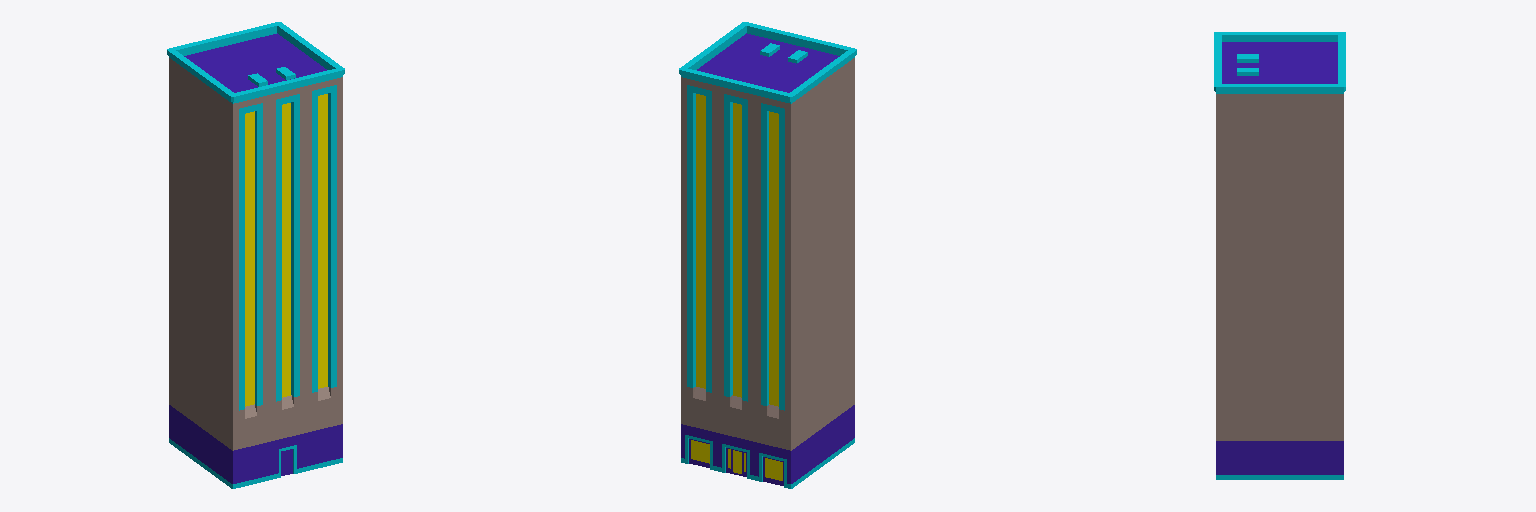
Rendered from skyscraperF_CyPk.obj.
3 views of the same model, side by side, from view 1: azimuth 30°, elevation 25°; view 2: azimuth 150°, elevation 25°; view 3: azimuth 270°, elevation 25° (orthographic).
Visible parts, largest first — view 1: skyscraperF; view 2: skyscraperF; view 3: skyscraperF.
Part boxes in pixels (left/top/right/bottom): skyscraperF: left=167, top=22, right=344, bottom=488; skyscraperF: left=679, top=22, right=856, bottom=488; skyscraperF: left=1214, top=32, right=1345, bottom=479.
Size of the model in its own units: 1.24 by 4.08 by 1.24.